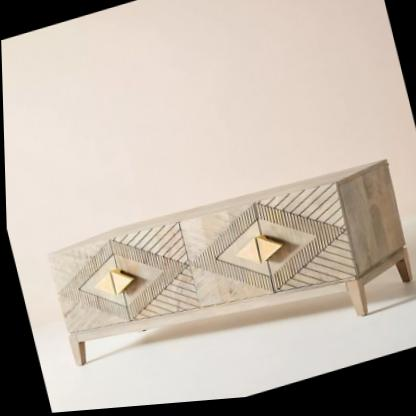Sideboard: (44, 166, 411, 368)
